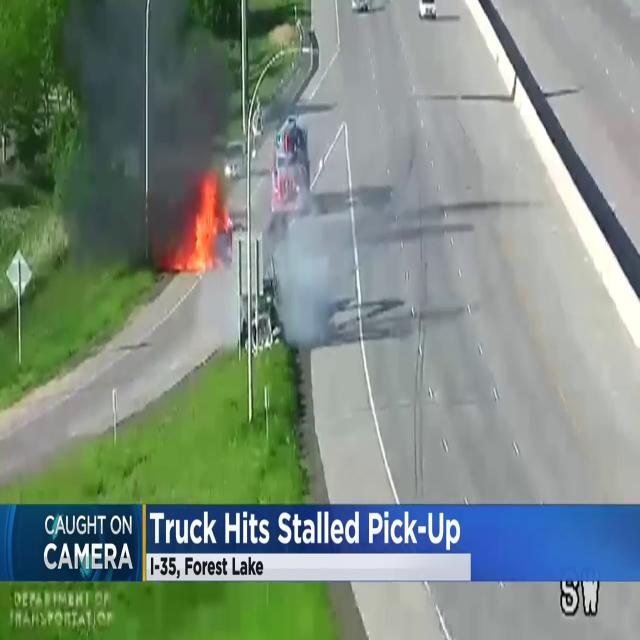Fire: (185, 164, 226, 276)
Smoke: (59, 0, 235, 261), (146, 0, 234, 236), (273, 205, 357, 356)
